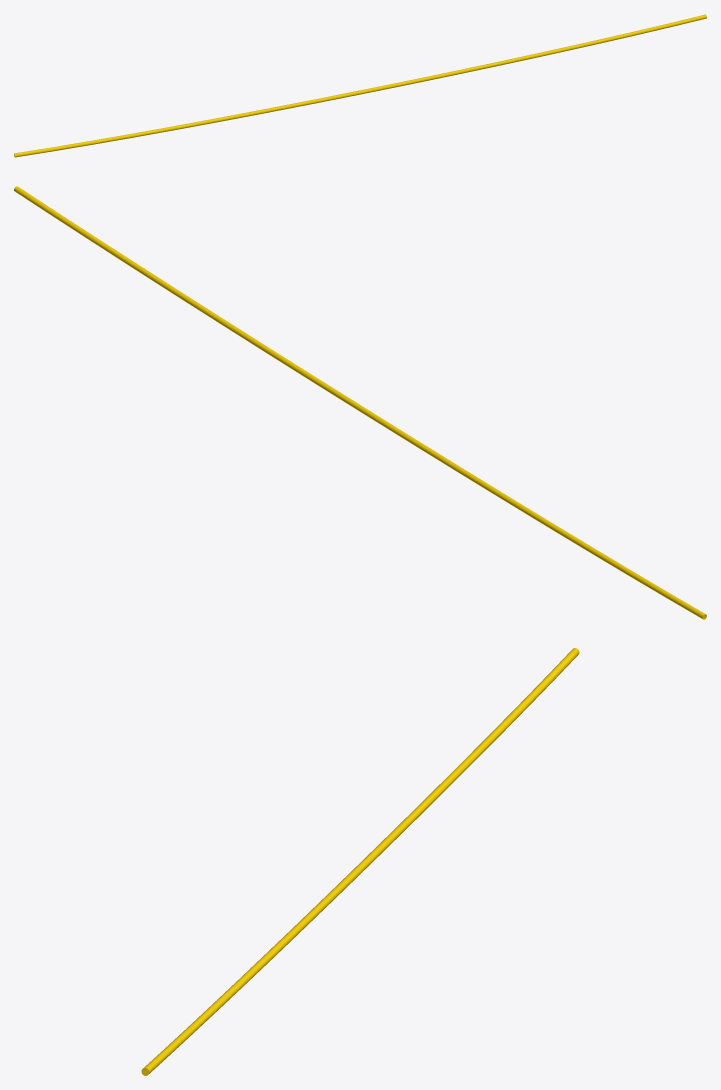
Rendered from Event_421115418_track_22.fbx.
3 views of the same model, one above another, from view 1: azimuth 30°, elevation 25°; view 2: azimuth 150°, elevation 25°; view 3: azimuth 270°, elevation 25° (orthographic). The views are drawn at different scales.
Parts seen in each view (by area): view 1: Model; view 2: Model; view 3: Model.
Boxes of the visible parts, <box> form: Model: <box>14,14,706,157</box>; Model: <box>14,186,706,619</box>; Model: <box>141,648,579,1075</box>.
Bounding box in the file's own units: 6.57 × 0.8454 × 2.13.
